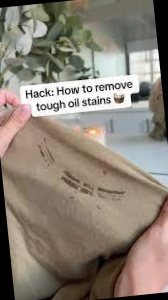oil: (61, 166, 92, 198), (92, 178, 128, 204), (35, 137, 60, 169)
